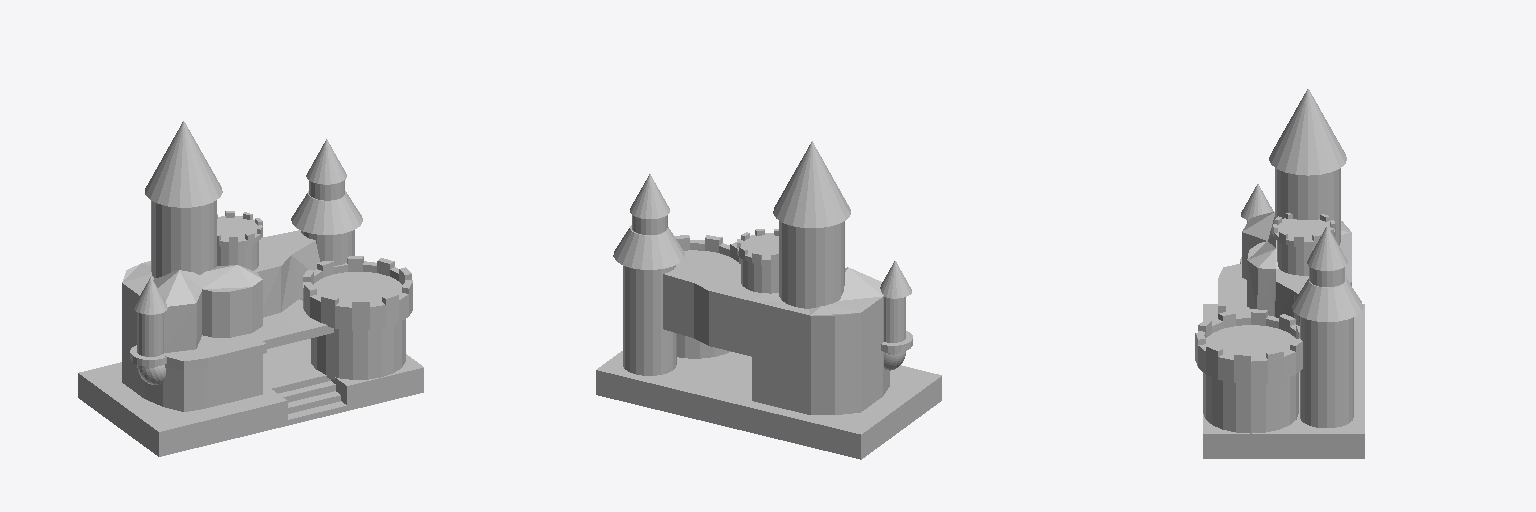
File: Fish castel.obj
The picture shows the model from 3 angles: view 1: azimuth 30°, elevation 25°; view 2: azimuth 150°, elevation 25°; view 3: azimuth 270°, elevation 25°; orthographic projection.
Visible parts, largest first — view 1: pCube1 pCube2, pCube1, pCube1 pCube2 pCylinder1, pCube1 pCube2 pCylinder5, pCube1 pCube2 pCylinder5 pCone2, pCube1 pCube2 pCylinder4, pCube1 pCube2 pCylinder2 pCylinder6, pCube1 pCube2 pSphere1 pCylinder3, pCube1 pCube2 pCylinder2, pCube1 pCube2 pCylinder2 pCylinder6 pCylinder7 pCone1, pCube1 pCube2 pSphere1 pCylinder3 pCone3, pCube1 pCube2 pCylinder2 pCylinder6 pCylinder7; view 2: pCube1 pCube2, pCube1, pCube1 pCube2 pCylinder5, pCube1 pCube2 pCylinder2, pCube1 pCube2 pCylinder5 pCone2, pCube1 pCube2 pCylinder4, pCube1 pCube2 pCylinder1, pCube1 pCube2 pCylinder2 pCylinder6, pCube1 pCube2 pSphere1 pCylinder3, pCube1 pCube2 pCylinder2 pCylinder6 pCylinder7 pCone1, pCube1 pCube2 pSphere1 pCylinder3 pCone3, pCube1 pCube2 pCylinder2 pCylinder6 pCylinder7; view 3: pCube1 pCube2 pCylinder1, pCube1, pCube1 pCube2, pCube1 pCube2 pCylinder2, pCube1 pCube2 pCylinder5 pCone2, pCube1 pCube2 pCylinder5, pCube1 pCube2 pCylinder4, pCube1 pCube2 pCylinder2 pCylinder6, pCube1 pCube2 pCylinder2 pCylinder6 pCylinder7 pCone1, pCube1 pCube2 pSphere1 pCylinder3 pCone3, pCube1 pCube2 pCylinder2 pCylinder6 pCylinder7.
Boxes of the visible parts, x1,y1,x2,y2 form: pCube1 pCube2: [122, 230, 333, 411]; pCube1: [78, 339, 423, 456]; pCube1 pCube2 pCylinder1: [303, 256, 412, 379]; pCube1 pCube2 pCylinder5: [151, 200, 216, 277]; pCube1 pCube2 pCylinder5 pCone2: [145, 121, 222, 207]; pCube1 pCube2 pCylinder4: [217, 211, 262, 270]; pCube1 pCube2 pCylinder2 pCylinder6: [291, 191, 362, 234]; pCube1 pCube2 pSphere1 pCylinder3: [130, 312, 166, 368]; pCube1 pCube2 pCylinder2: [301, 230, 354, 265]; pCube1 pCube2 pCylinder2 pCylinder6 pCylinder7 pCone1: [306, 139, 346, 184]; pCube1 pCube2 pSphere1 pCylinder3 pCone3: [134, 277, 167, 314]; pCube1 pCube2 pCylinder2 pCylinder6 pCylinder7: [309, 180, 344, 200]; pCube1 pCube2: [663, 263, 889, 414]; pCube1: [596, 351, 941, 459]; pCube1 pCube2 pCylinder5: [779, 221, 844, 308]; pCube1 pCube2 pCylinder2: [623, 265, 676, 375]; pCube1 pCube2 pCylinder5 pCone2: [773, 141, 850, 227]; pCube1 pCube2 pCylinder4: [737, 229, 778, 293]; pCube1 pCube2 pCylinder1: [674, 235, 740, 358]; pCube1 pCube2 pCylinder2 pCylinder6: [613, 225, 684, 269]; pCube1 pCube2 pSphere1 pCylinder3: [881, 297, 912, 354]; pCube1 pCube2 pCylinder2 pCylinder6 pCylinder7 pCone1: [630, 174, 669, 218]; pCube1 pCube2 pSphere1 pCylinder3 pCone3: [880, 261, 911, 298]; pCube1 pCube2 pCylinder2 pCylinder6 pCylinder7: [632, 215, 667, 234]; pCube1 pCube2 pCylinder1: [1195, 309, 1302, 433]; pCube1: [1203, 304, 1364, 458]; pCube1 pCube2: [1218, 212, 1351, 325]; pCube1 pCube2 pCylinder2: [1300, 317, 1353, 427]; pCube1 pCube2 pCylinder5 pCone2: [1269, 89, 1346, 175]; pCube1 pCube2 pCylinder5: [1275, 168, 1340, 245]; pCube1 pCube2 pCylinder4: [1272, 213, 1335, 275]; pCube1 pCube2 pCylinder2 pCylinder6: [1292, 277, 1363, 321]; pCube1 pCube2 pCylinder2 pCylinder6 pCylinder7 pCone1: [1307, 225, 1347, 270]; pCube1 pCube2 pSphere1 pCylinder3 pCone3: [1241, 184, 1273, 220]; pCube1 pCube2 pCylinder2 pCylinder6 pCylinder7: [1309, 267, 1344, 286].
Bounding box in the file's own units: 11.55 × 11.36 × 6.23.